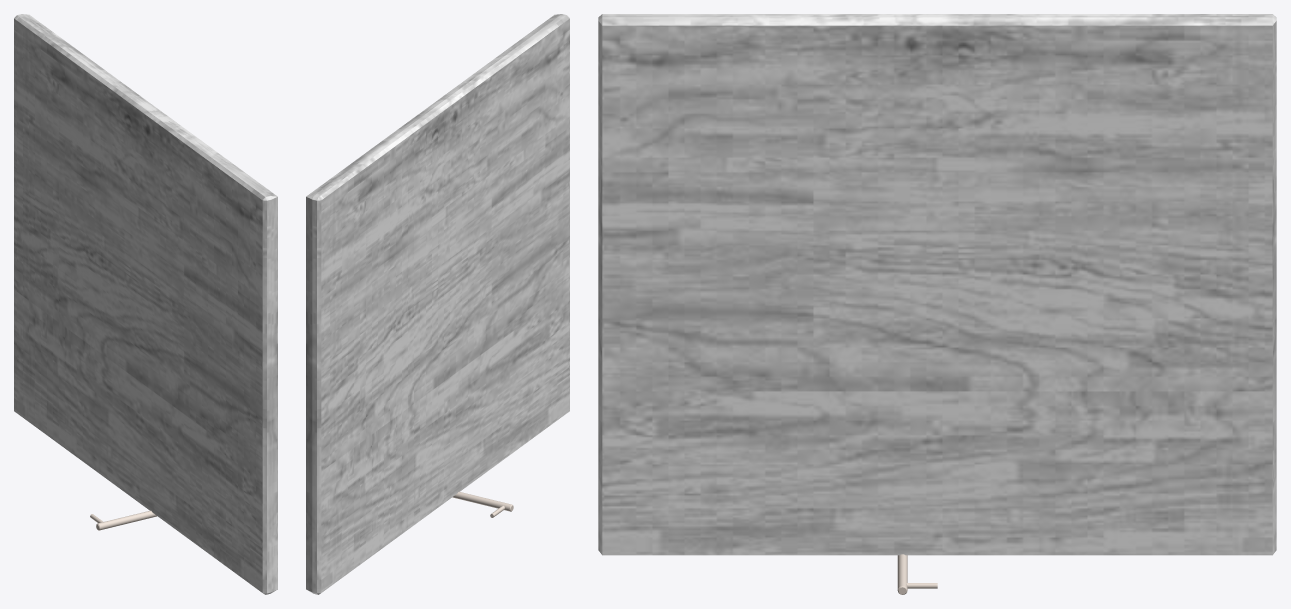
The model's file is Cabinet_44136d47.obj.
3 views of the same model, side by side, from view 1: azimuth 30°, elevation 25°; view 2: azimuth 150°, elevation 25°; view 3: azimuth 270°, elevation 25° (orthographic). The views are drawn at different scales.
Visible parts, largest first — view 1: Mesh_adcd422c, handle_1_178mm_01_cff84400; view 2: Mesh_adcd422c, handle_1_178mm_01_cff84400; view 3: Mesh_adcd422c.
Boxes of the visible parts, <box> form: Mesh_adcd422c: <box>14,14,277,594</box>; handle_1_178mm_01_cff84400: <box>90,510,156,530</box>; Mesh_adcd422c: <box>306,14,569,594</box>; handle_1_178mm_01_cff84400: <box>452,491,513,517</box>; Mesh_adcd422c: <box>598,14,1276,555</box>.
Bounding box in the file's own units: 0.178 × 0.5787 × 0.6574.
